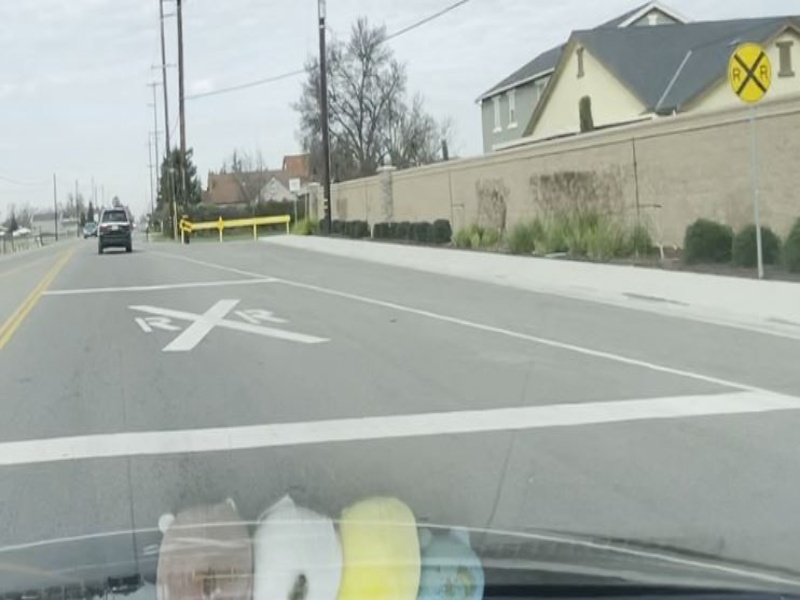railroad sign: (726, 42, 775, 104)
